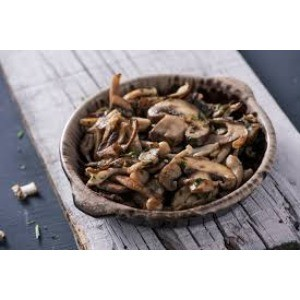mushroom_brain food: (91, 105, 251, 195)
